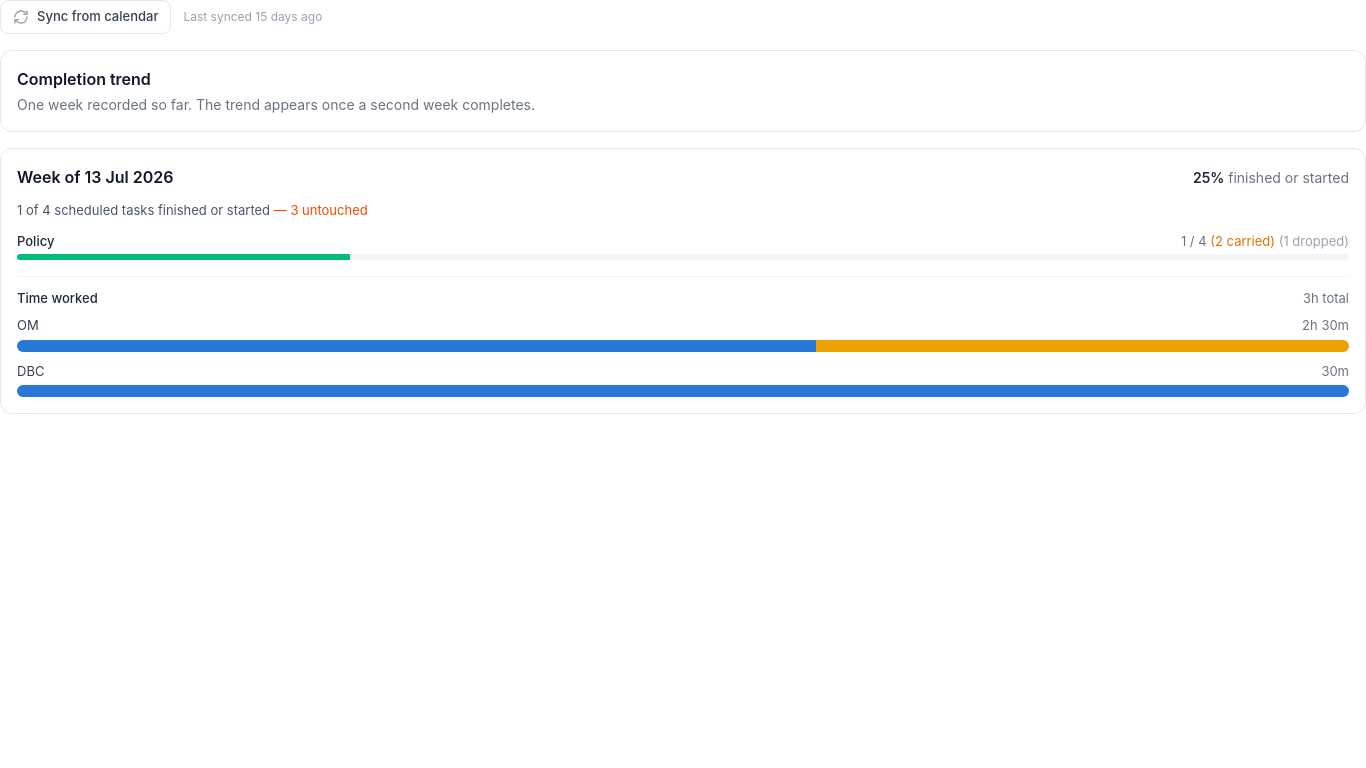
it: AnalysisView › drill-down › closes on Escape
Click the button named "DBC, Meetings: 30m, 100 per cent" at (683, 391), box [17, 385, 1349, 397]
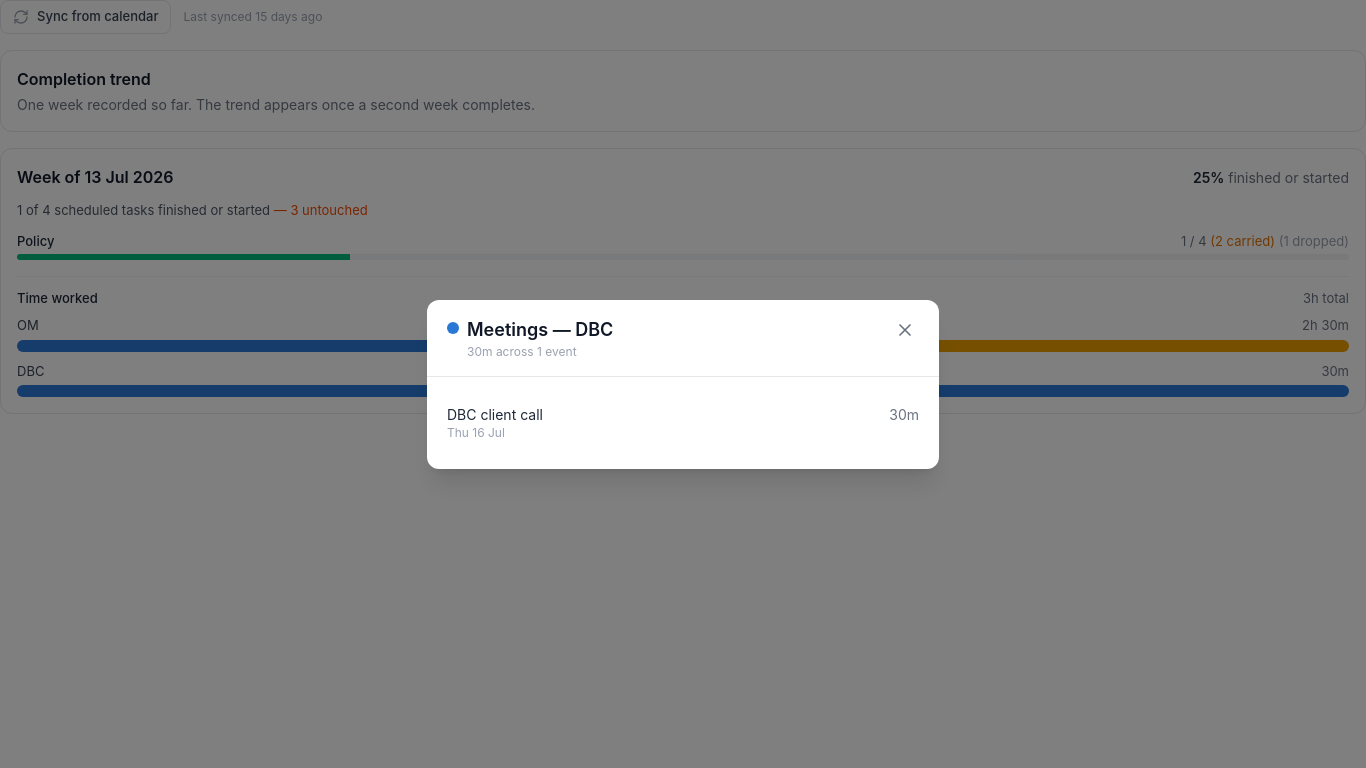
Expected: the heading "Meetings — DBC" is shown, [467, 316, 613, 344]
Press Escape
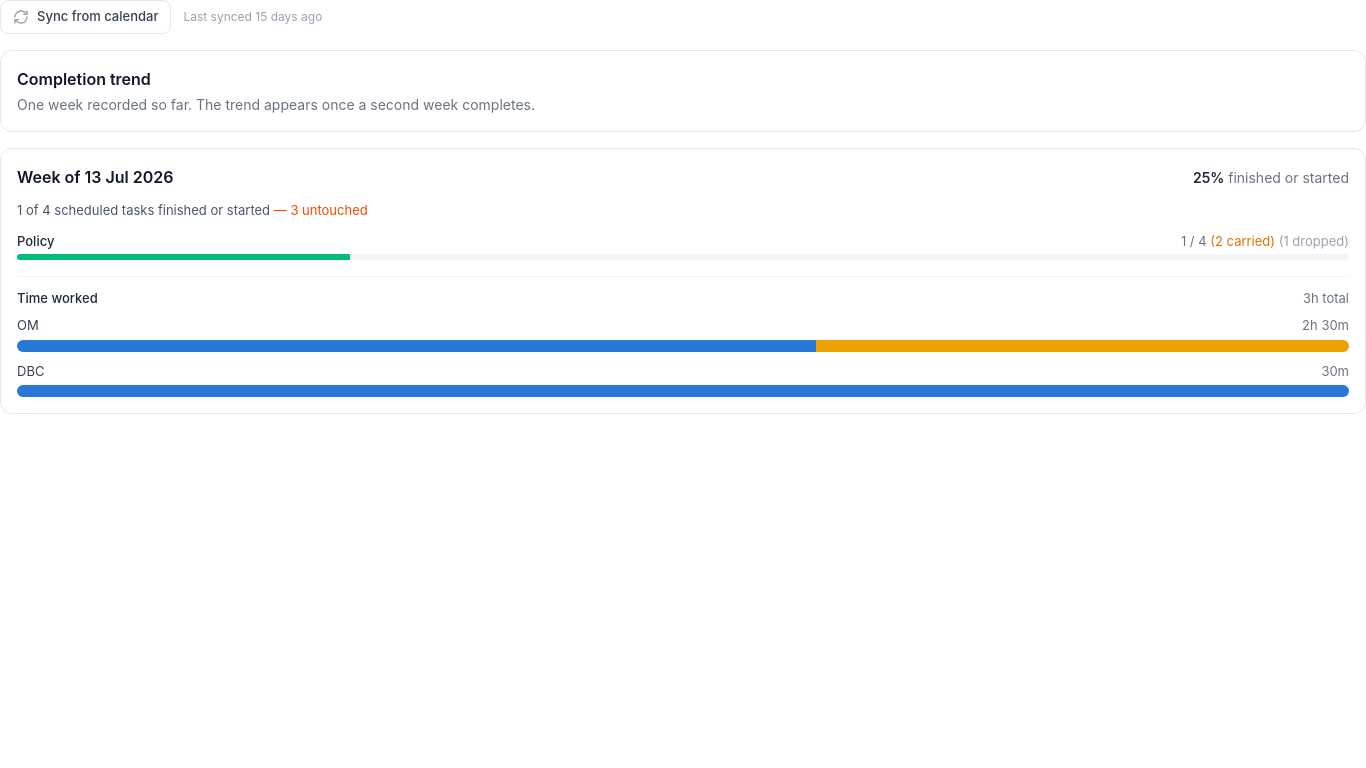
Expected: the heading "Meetings — DBC" is gone
